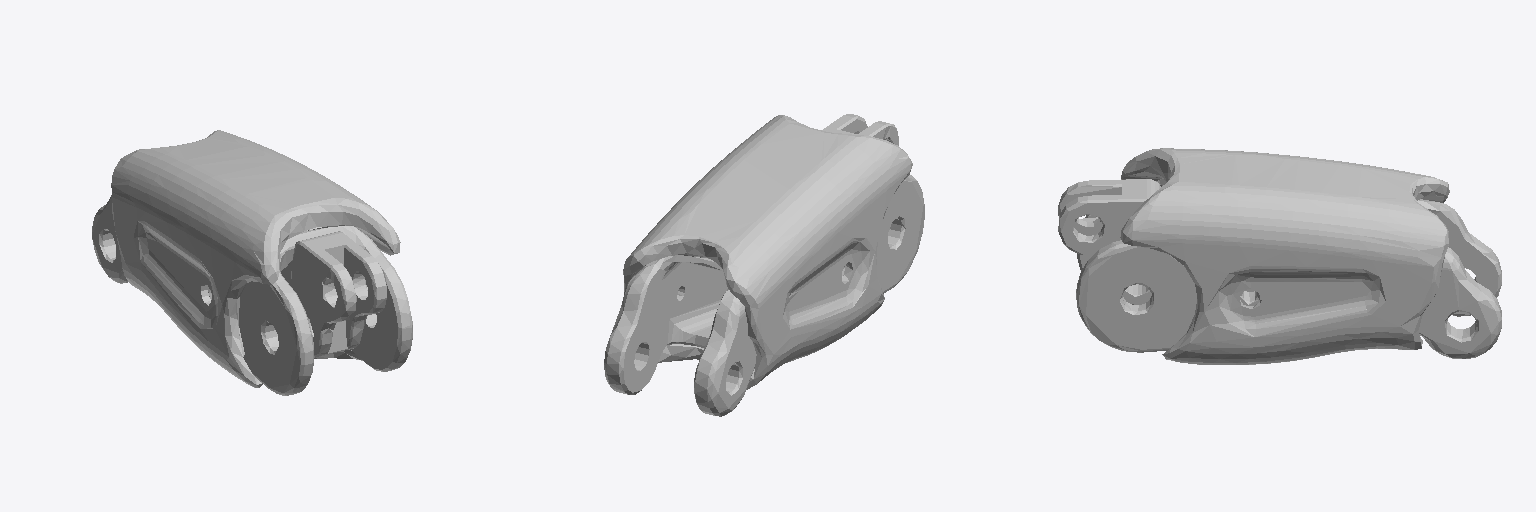
Rendered from L_middle_proximal.obj.
3 renders of one model, left to right at view 1: azimuth 30°, elevation 25°; view 2: azimuth 150°, elevation 25°; view 3: azimuth 270°, elevation 25°, orthographic.
Visible parts, largest first — view 1: L_middle_proximal; view 2: L_middle_proximal; view 3: L_middle_proximal.
Part boxes in pixels (x1,y1,x2,y2): L_middle_proximal: (92, 130, 412, 395); L_middle_proximal: (604, 114, 924, 416); L_middle_proximal: (1058, 148, 1501, 364).
Bounding box in the file's own units: 0.016 × 0.0192 × 0.0436.